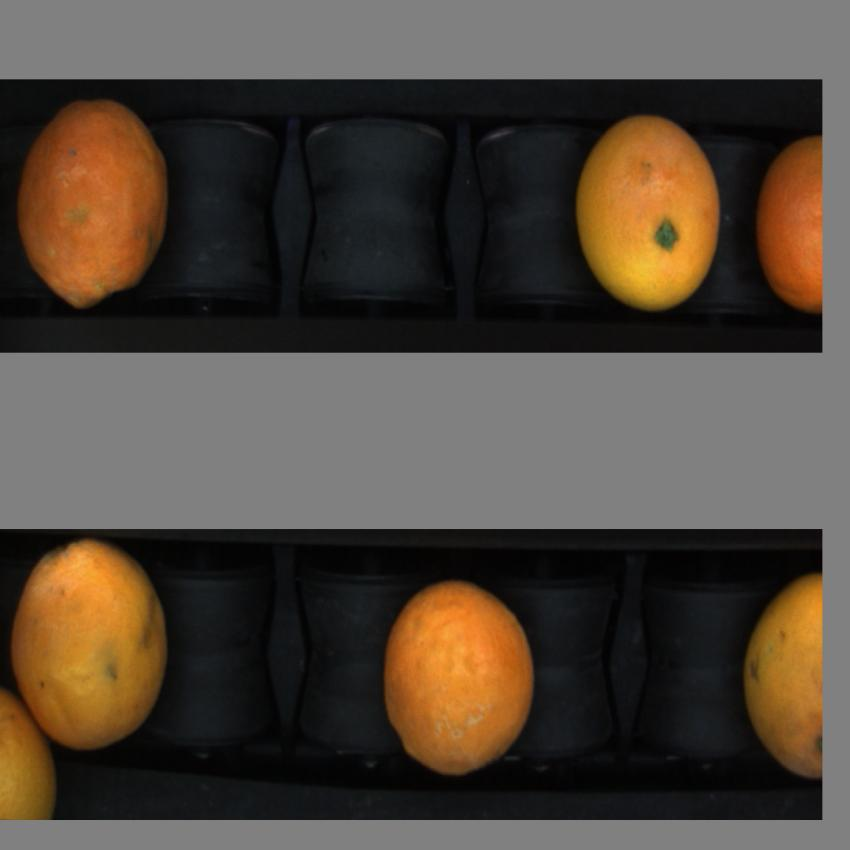Buen estado: (7, 538, 180, 753), (380, 573, 554, 776), (575, 107, 722, 319), (734, 567, 822, 783), (757, 127, 825, 304), (0, 687, 59, 825)
Mal estado: (17, 96, 176, 306)
